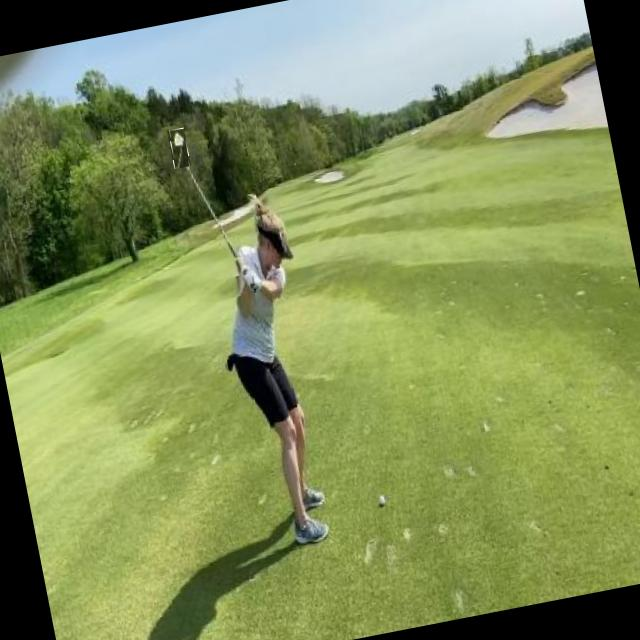club head: (167, 128, 191, 168)
